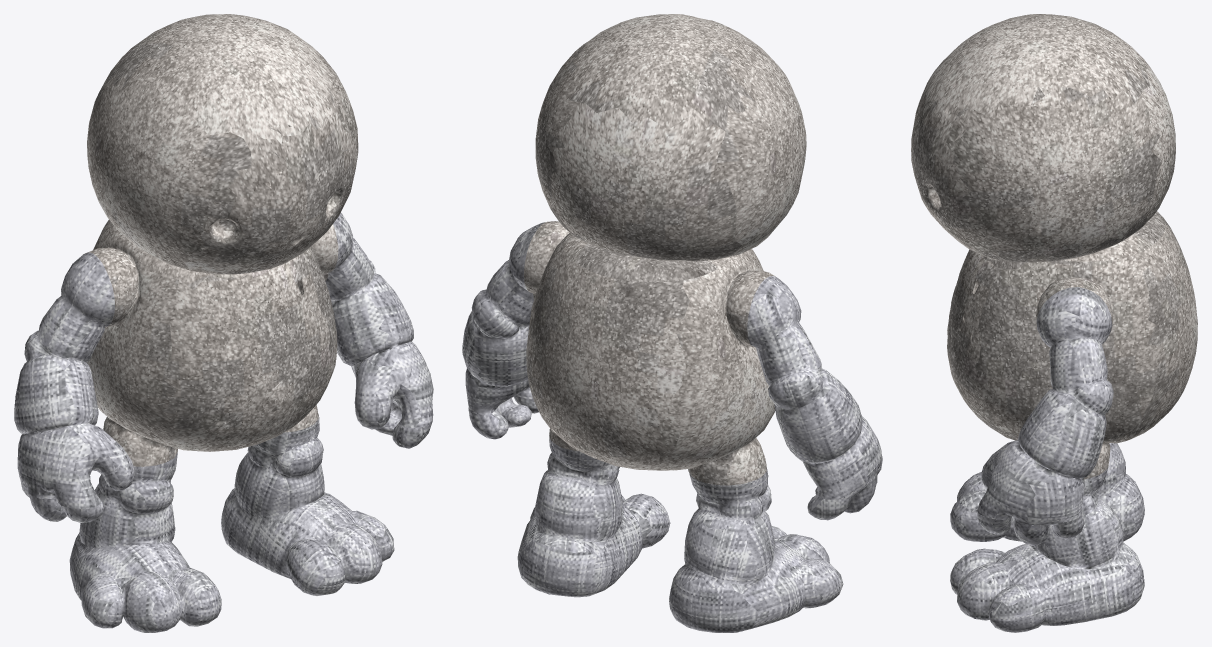
Rendered from 03-pearl-orb-ring--stylized_3d_character1.glb.
The picture shows the model from 3 angles, left to right: view 1: azimuth 30°, elevation 25°; view 2: azimuth 150°, elevation 25°; view 3: azimuth 270°, elevation 25°; orthographic projection. The views are drawn at different scales.
Parts seen in each view (by area): view 1: head_mesh, body_mesh, feet_mesh, arms_mesh; view 2: head_mesh, body_mesh, feet_mesh, arms_mesh; view 3: head_mesh, body_mesh, feet_mesh, arms_mesh.
Boxes of the visible parts, x1,y1,x2,y2 form: head_mesh: (87,14,358,271); body_mesh: (83,220,338,466); feet_mesh: (69,414,405,632); arms_mesh: (14,212,433,522); head_mesh: (535,14,806,281); body_mesh: (524,221,775,485); feet_mesh: (515,405,843,632); arms_mesh: (462,222,882,520); head_mesh: (911,14,1175,262); body_mesh: (947,215,1197,479); feet_mesh: (950,443,1144,632); arms_mesh: (977,287,1113,545).
Bounding box in the file's own units: 2.26 × 3 × 1.44.
4 materials, 4 textured.
